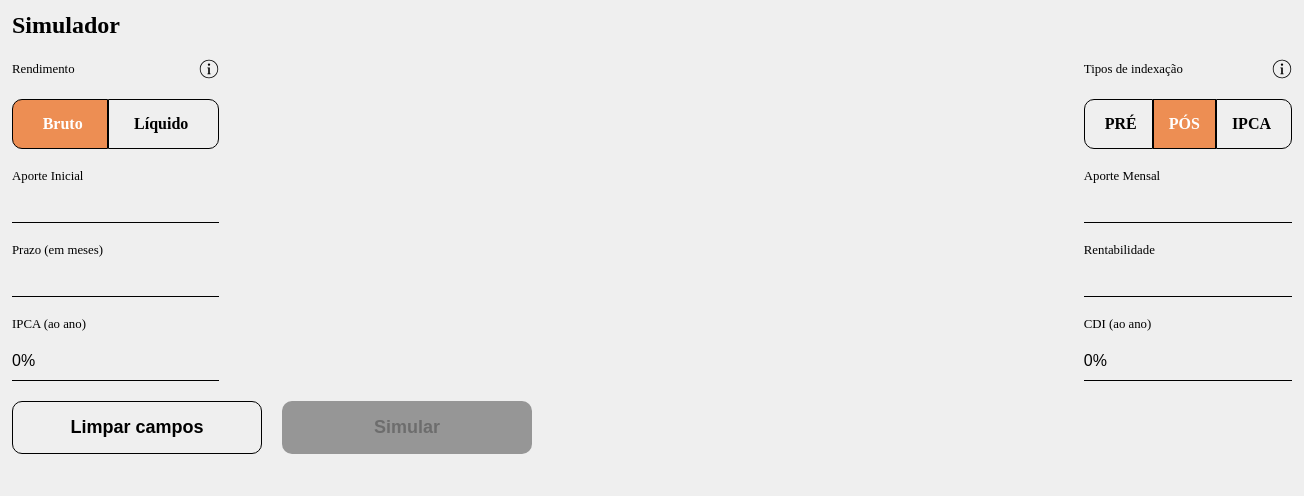
it: Simulator component › identifies text instead of numeric input on initialTransfer as wrong
Step 1. Type "teste" into the field named "Aporte Inicial" → (116, 208), box [12, 194, 219, 223]
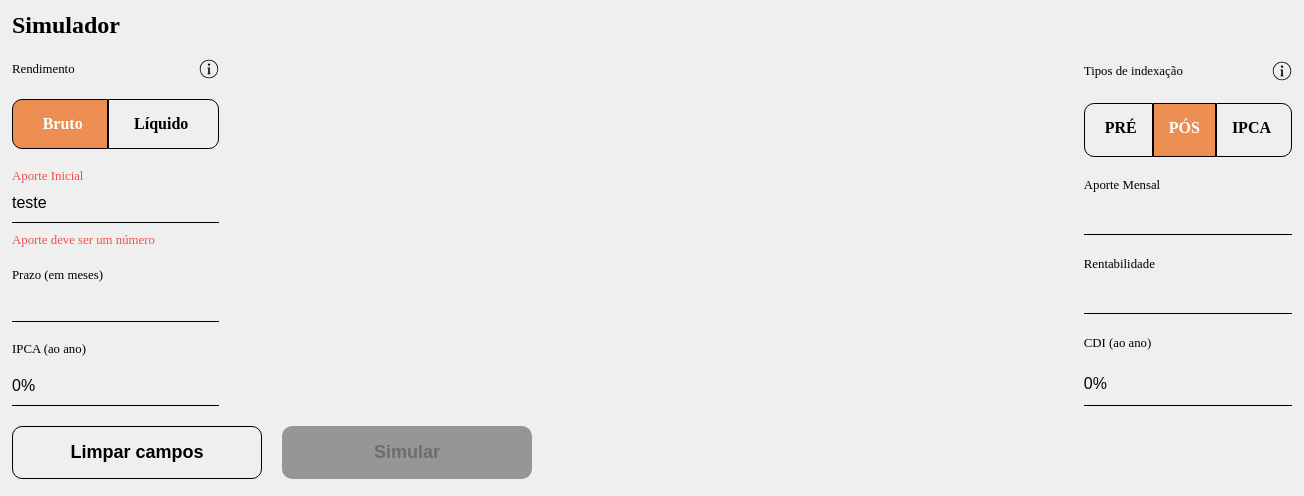
Now the text "Aporte deve ser um número" is shown, box [12, 233, 155, 247]
